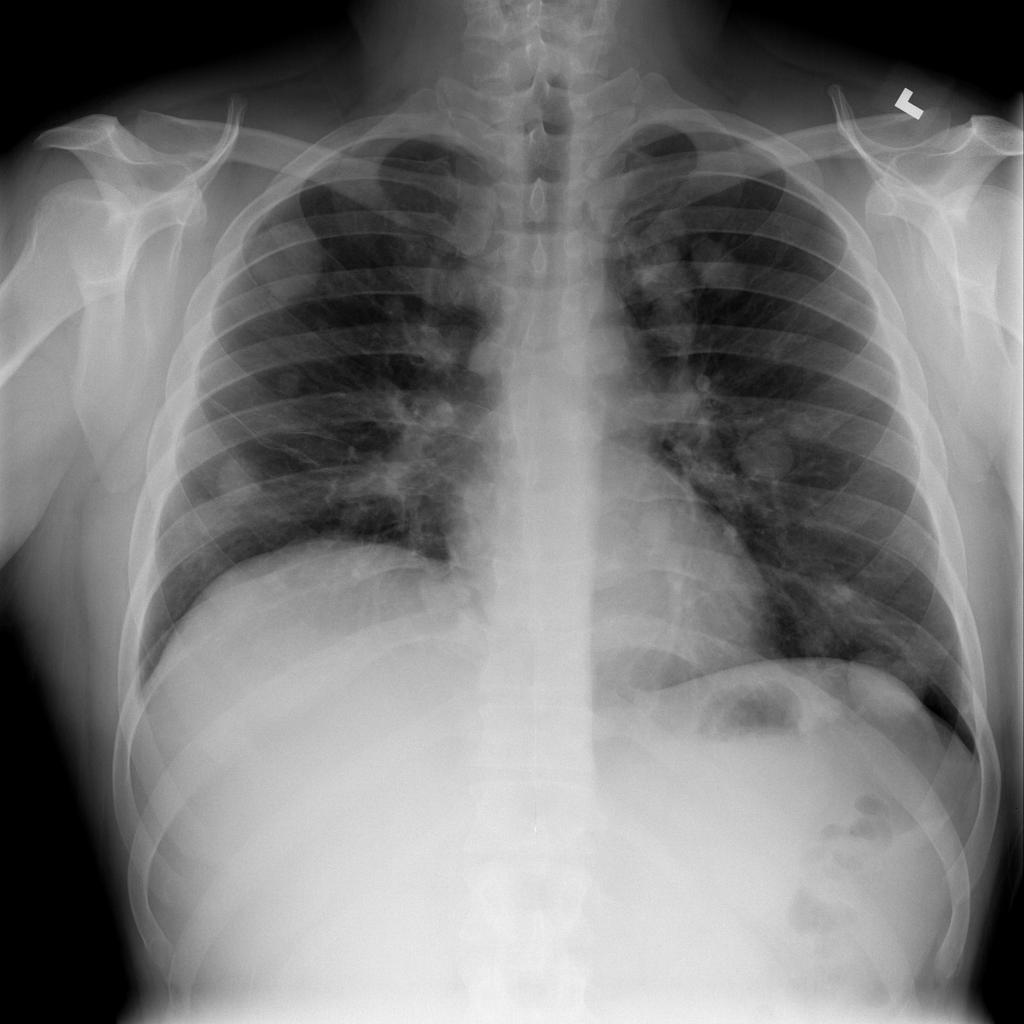nodule: (237, 206, 344, 317), (842, 642, 933, 720), (729, 417, 809, 492), (685, 228, 761, 305), (199, 445, 277, 513), (624, 495, 693, 560), (786, 620, 843, 669), (261, 356, 316, 406), (811, 567, 867, 612), (368, 282, 422, 328)
